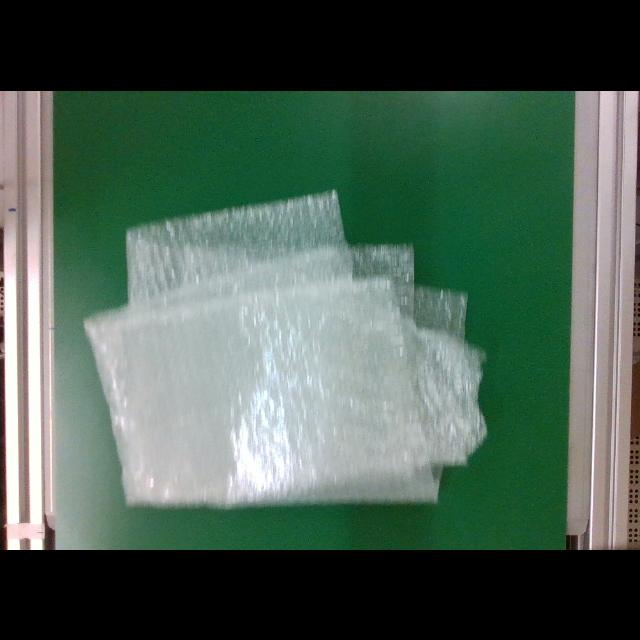scrap_plastic: (68, 185, 492, 508)
